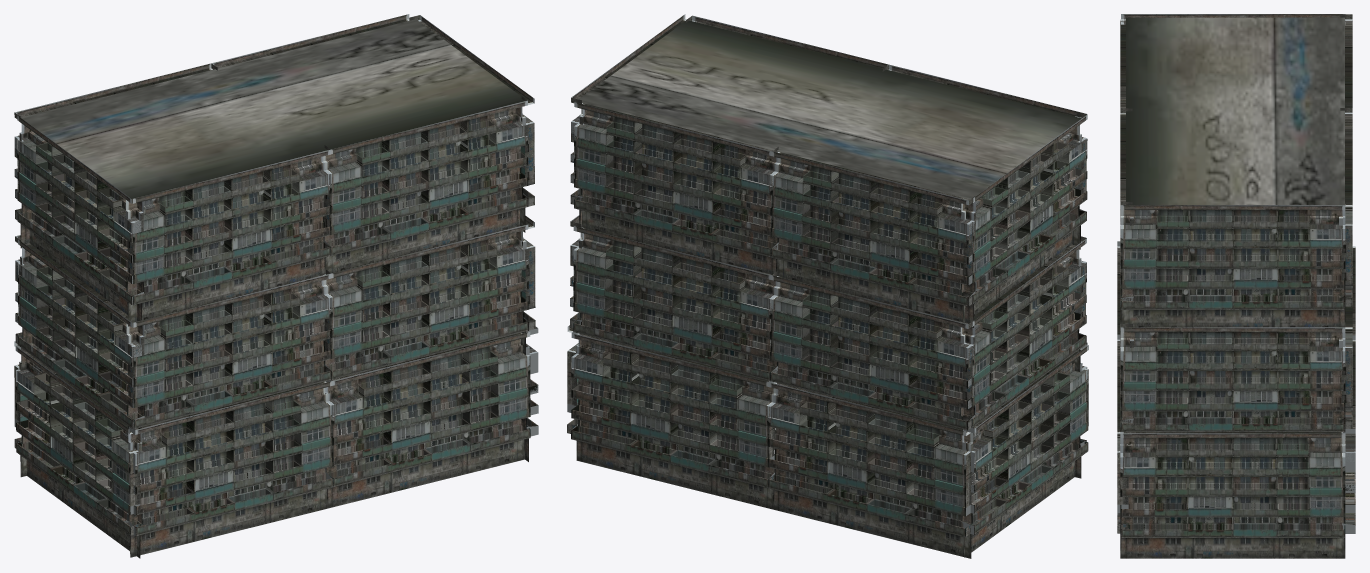
Rendered from cyber_apart.glb.
3 renders of one model, left to right at view 1: azimuth 30°, elevation 25°; view 2: azimuth 150°, elevation 25°; view 3: azimuth 270°, elevation 25°, orthographic.
Visible parts, largest first — view 1: Background building by JJ_Empty.001_0; view 2: Background building by JJ_Empty.001_0; view 3: Background building by JJ_Empty.001_0.
Boxes of the visible parts, left/top/right/bottom form: Background building by JJ_Empty.001_0: left=14, top=14, right=538, bottom=558; Background building by JJ_Empty.001_0: left=567, top=14, right=1088, bottom=558; Background building by JJ_Empty.001_0: left=1117, top=14, right=1355, bottom=558.
Bounding box in the file's own units: 36.31 × 30.98 × 18.66.
Materials: 1 (1 with a texture image).
